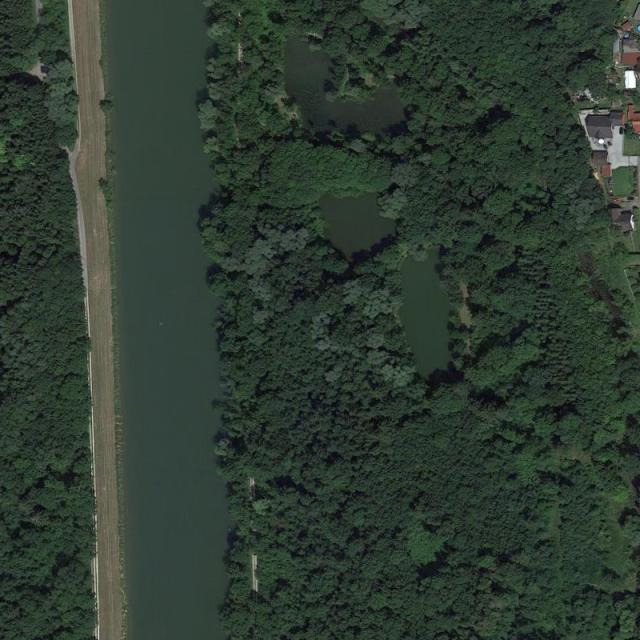vehicle: (619, 127, 624, 135)
